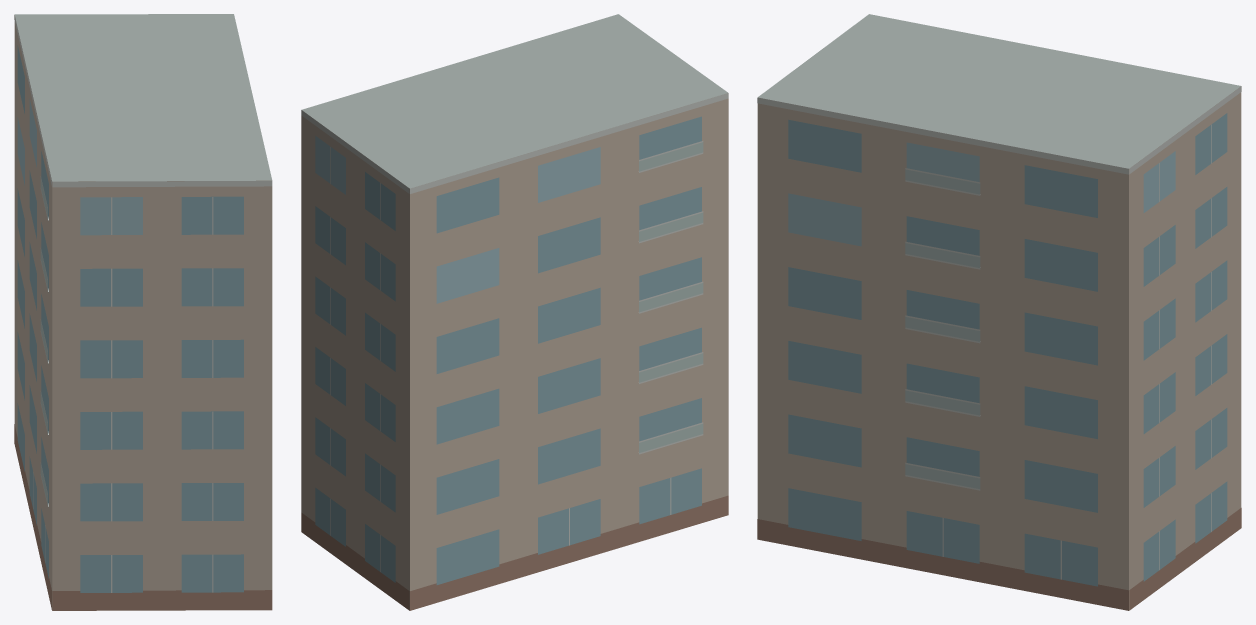
File: survey-upis-32992833.glb
3 views of the same model, side by side, from view 1: azimuth 30°, elevation 25°; view 2: azimuth 150°, elevation 25°; view 3: azimuth 270°, elevation 25° (orthographic). The views are drawn at different scales.
Visible parts, largest first — view 1: survey-upis-32992833.tmp; view 2: survey-upis-32992833.tmp; view 3: survey-upis-32992833.tmp.
Boxes of the visible parts, x1=… form: survey-upis-32992833.tmp: x1=14, y1=14, x2=272, y2=610; survey-upis-32992833.tmp: x1=301, y1=14, x2=728, y2=610; survey-upis-32992833.tmp: x1=757, y1=14, x2=1241, y2=610.
Size of the model in its own units: 13.75 by 18.3 by 18.17.
